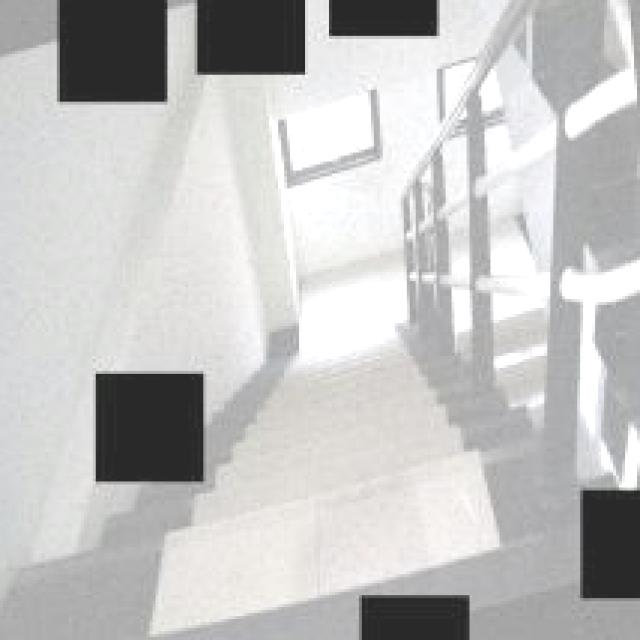downstair: (267, 384, 441, 539)
